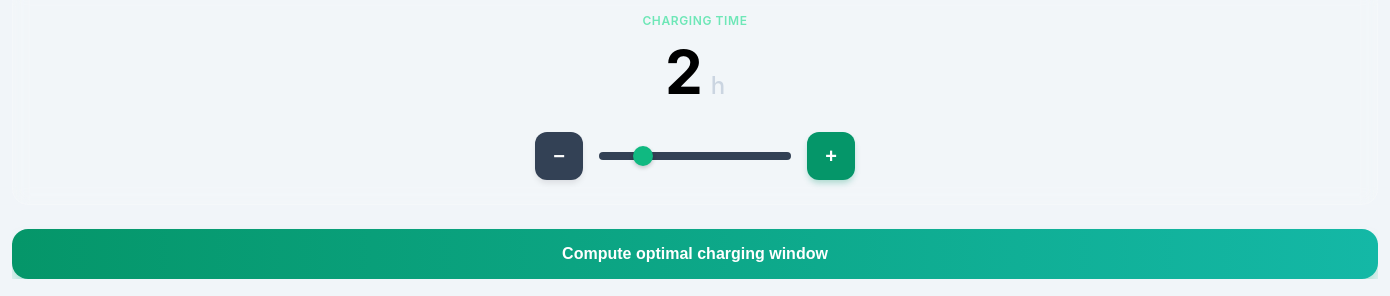
Test: ChargingForm › should not go below 1 hour
The image size is (1390, 296).
Click the button "−". click: (559, 156)
box: [535,132,583,180]
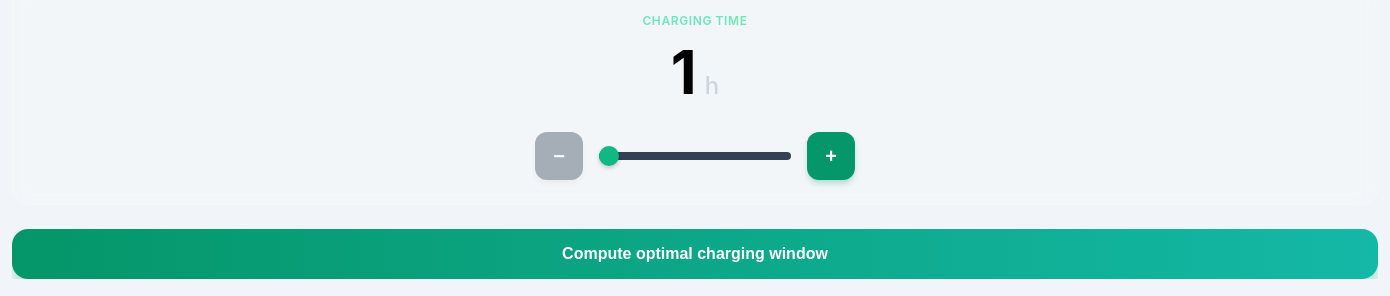
Result: the text "1" is shown at [671,36,697,108]
